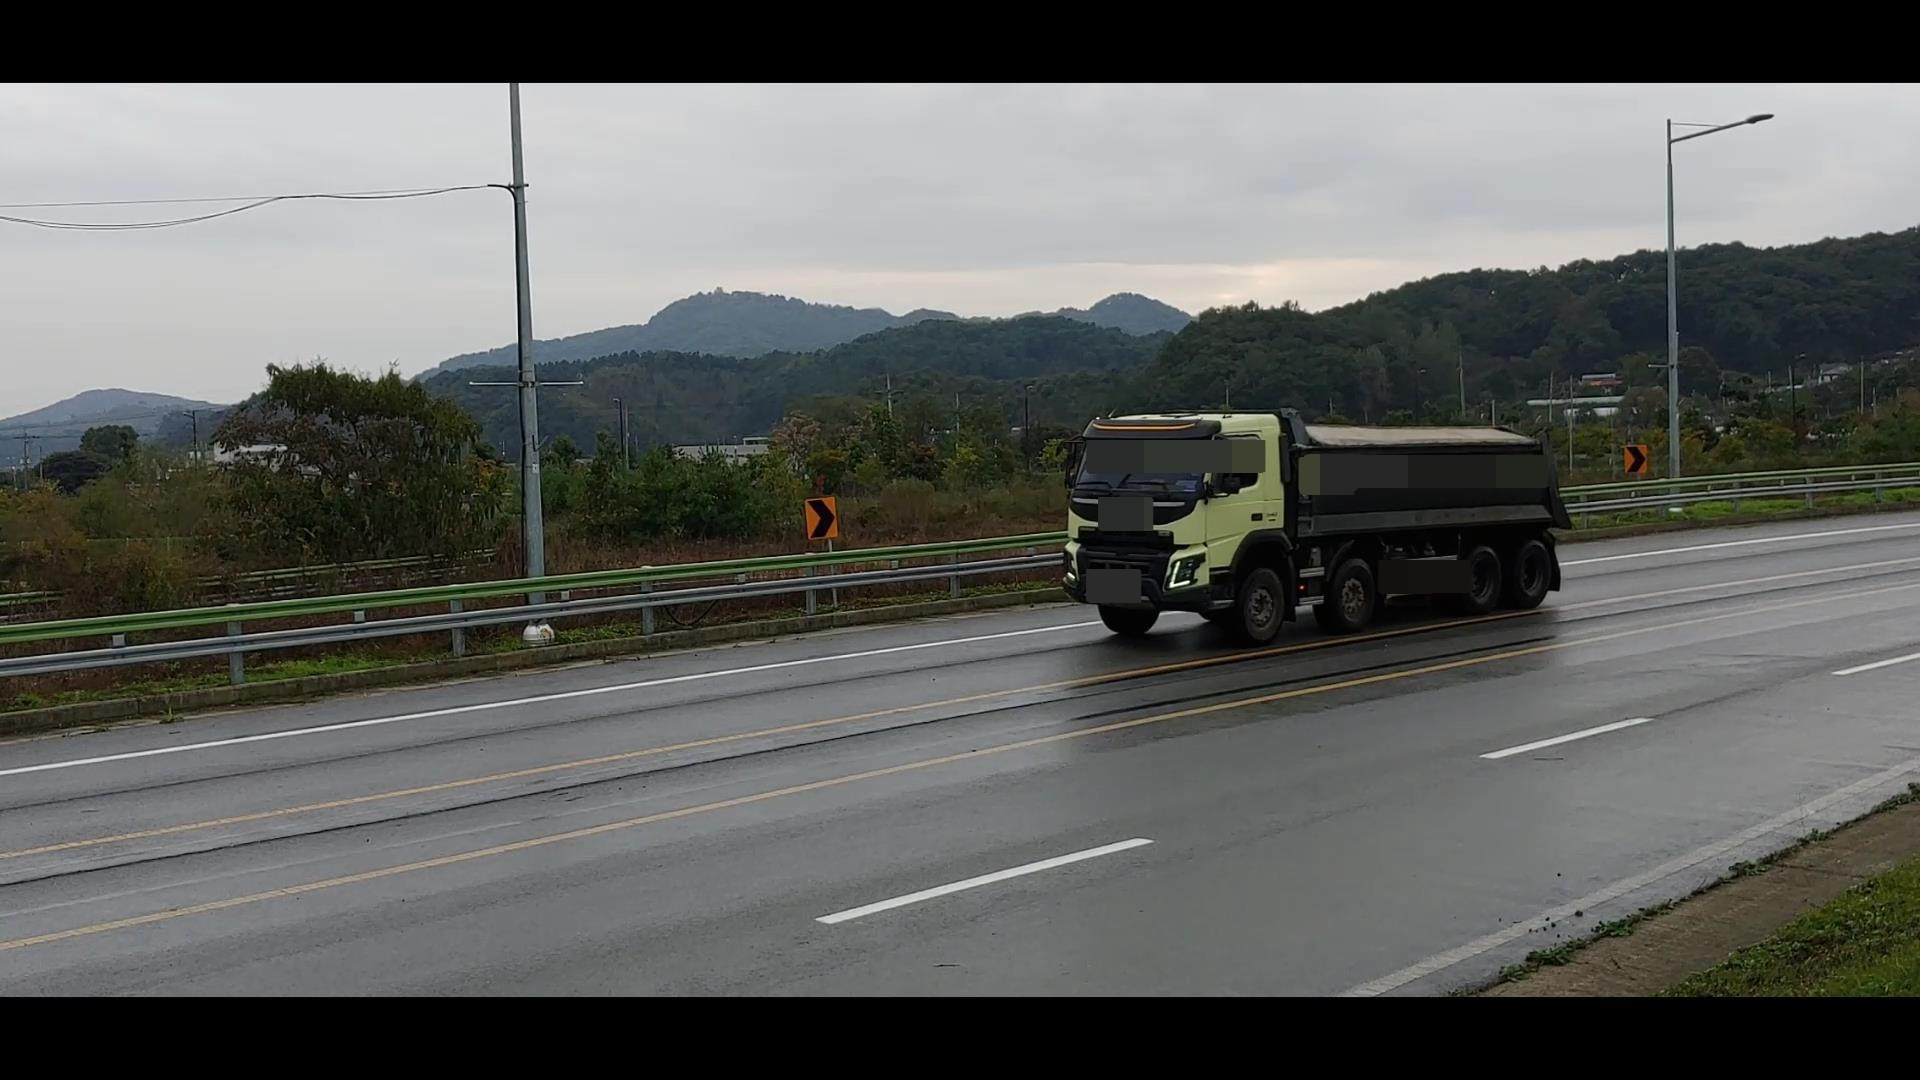정상차량: (1056, 406, 1575, 647)
